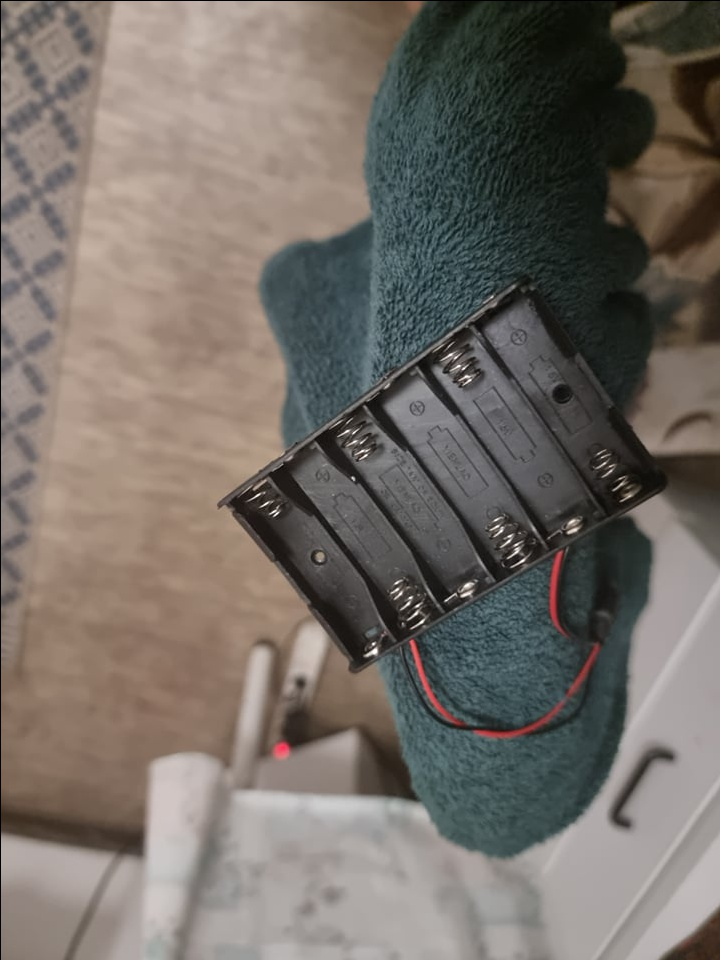BATTERY BOX: (214, 266, 665, 670)
